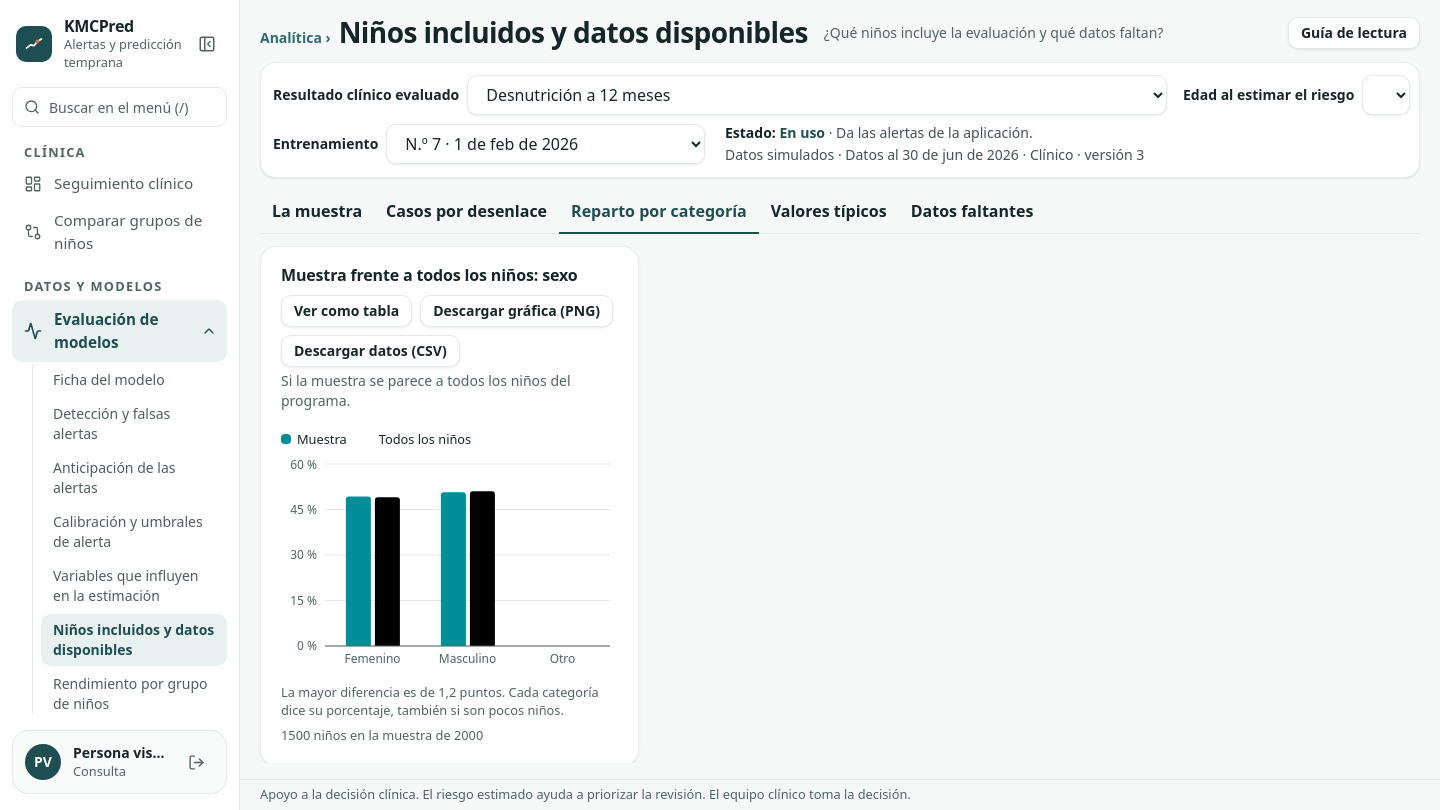
población: muestra frente a todos los niños › dibuja el reparto por categoría y la tabla de valores típicos con su descripción
Check: the element named "sexo: la muestra frente a todos los niños" is shown, box [281,456,618,676]
Check: the text "Si la muestra se parece a todos los niños del programa." is shown, box [281,371,570,410]
Click the tab "Valores típicos": (829, 212) [759,190,899,234]
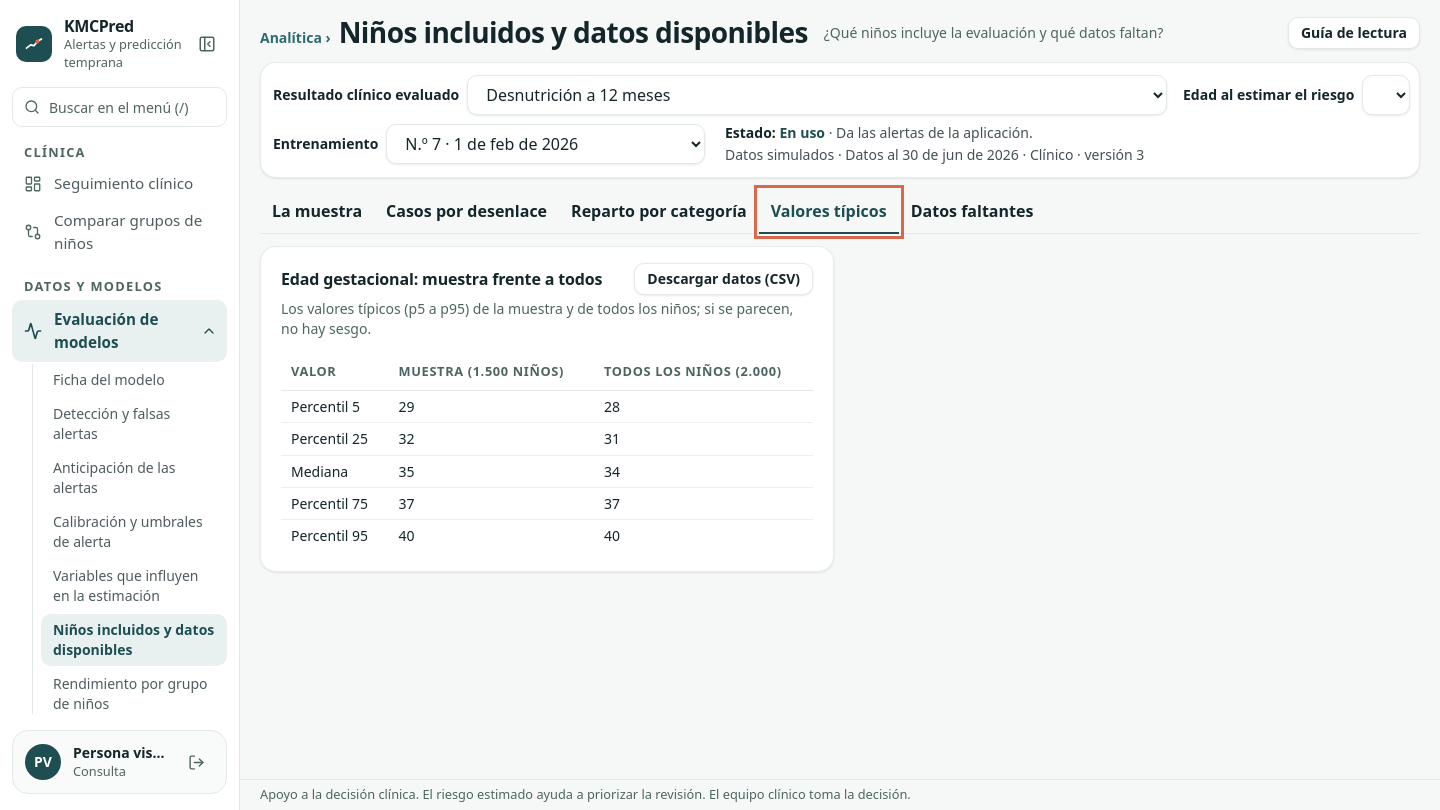
Check: the heading "Edad gestacional: muestra frente a todos" is shown, box [281,267,602,291]
Check: the text "Mediana" is shown, box [281,455,389,488]
